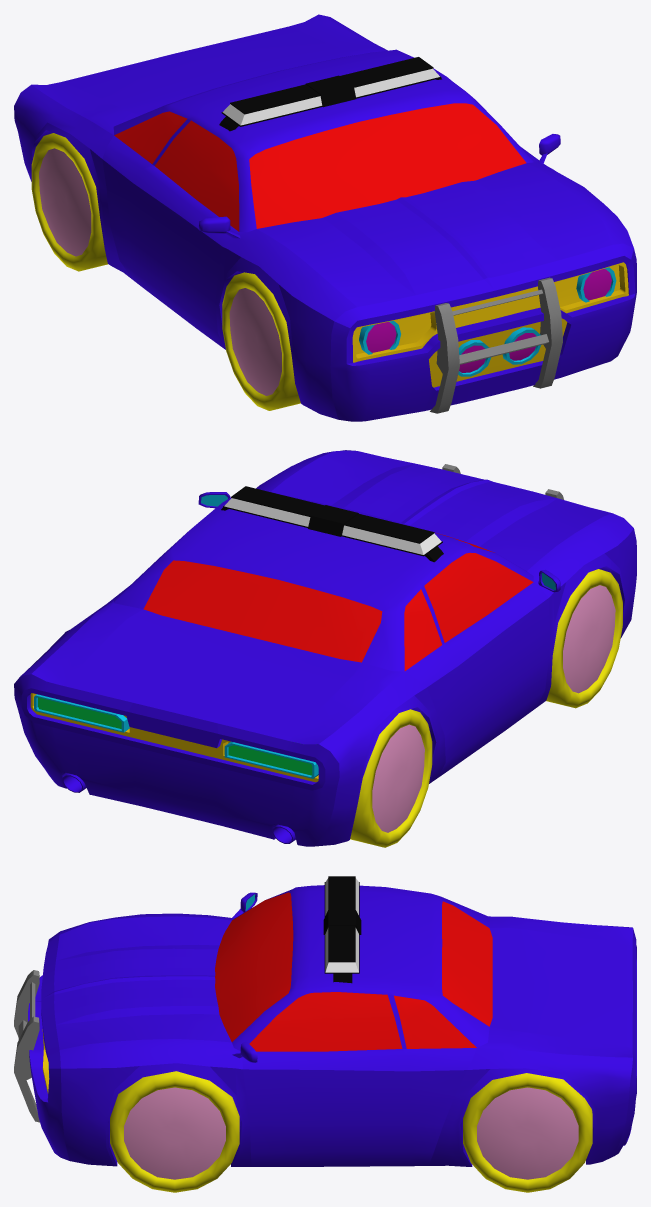
The model's file is 14_SteinBefugnis71Police_ColorCoded.fbx.
3 renders of one model, top to bottom at view 1: azimuth 30°, elevation 25°; view 2: azimuth 150°, elevation 25°; view 3: azimuth 270°, elevation 25°, orthographic. The views are drawn at different scales.
Parts seen in each view (by area): view 1: Body, tireFrontR, tireBackR, police_light, police_ram; view 2: Body, tireBackR, tireFrontR, police_light; view 3: Body, tireFrontL, tireBackL, police_light, police_ram.
Part boxes in pixels (x1,y1,x2,y2): Body: (14, 14, 636, 421); tireFrontR: (222, 272, 300, 410); tireBackR: (31, 133, 107, 271); police_light: (219, 57, 441, 131); police_ram: (430, 277, 562, 413); Body: (14, 450, 636, 846); tireBackR: (350, 709, 432, 847); tireFrontR: (546, 569, 622, 708); police_light: (221, 486, 443, 562); Body: (28, 885, 636, 1166); tireFrontL: (110, 1071, 239, 1192); tireBackL: (463, 1073, 592, 1192); police_light: (323, 876, 361, 983); police_ram: (14, 970, 39, 1122).
Size of the model in its own units: 66.53 by 37.98 by 108.
